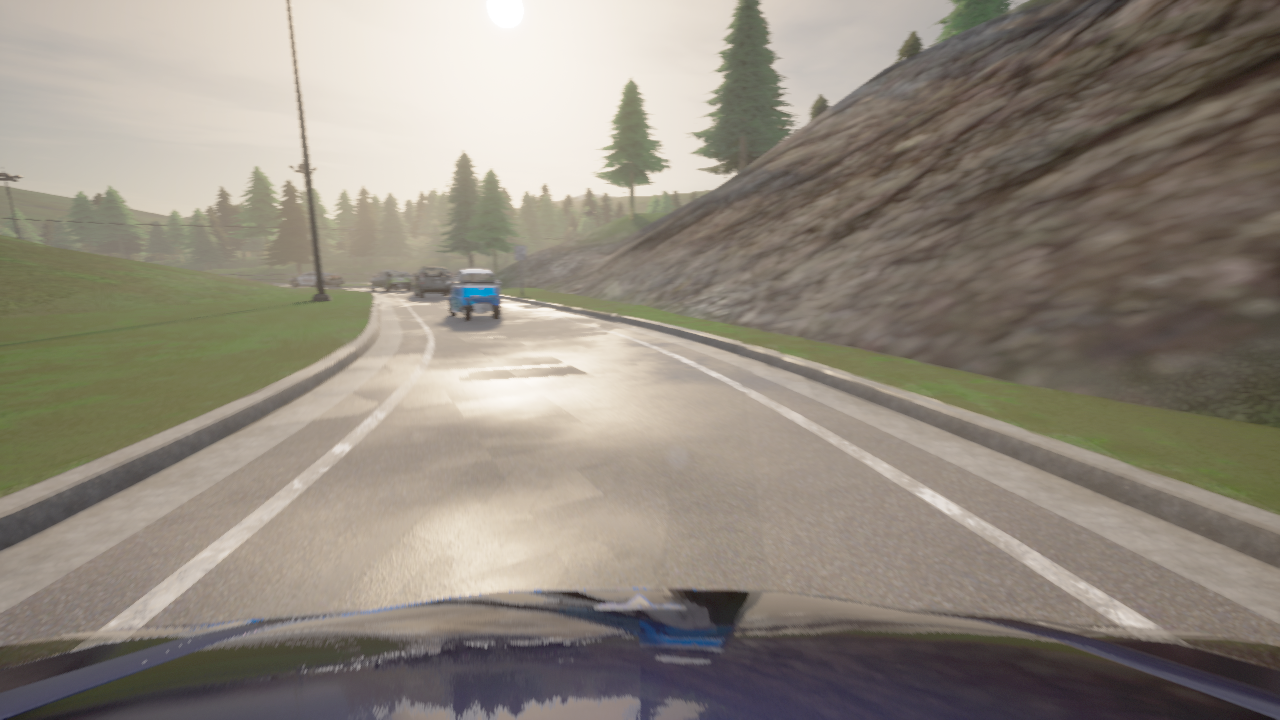cyclist: (0, 588, 1279, 719), (447, 268, 501, 320), (413, 266, 453, 298), (289, 270, 344, 287), (370, 270, 412, 291)
